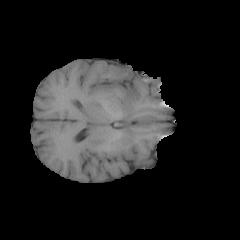glioma: (89, 67, 146, 127)
